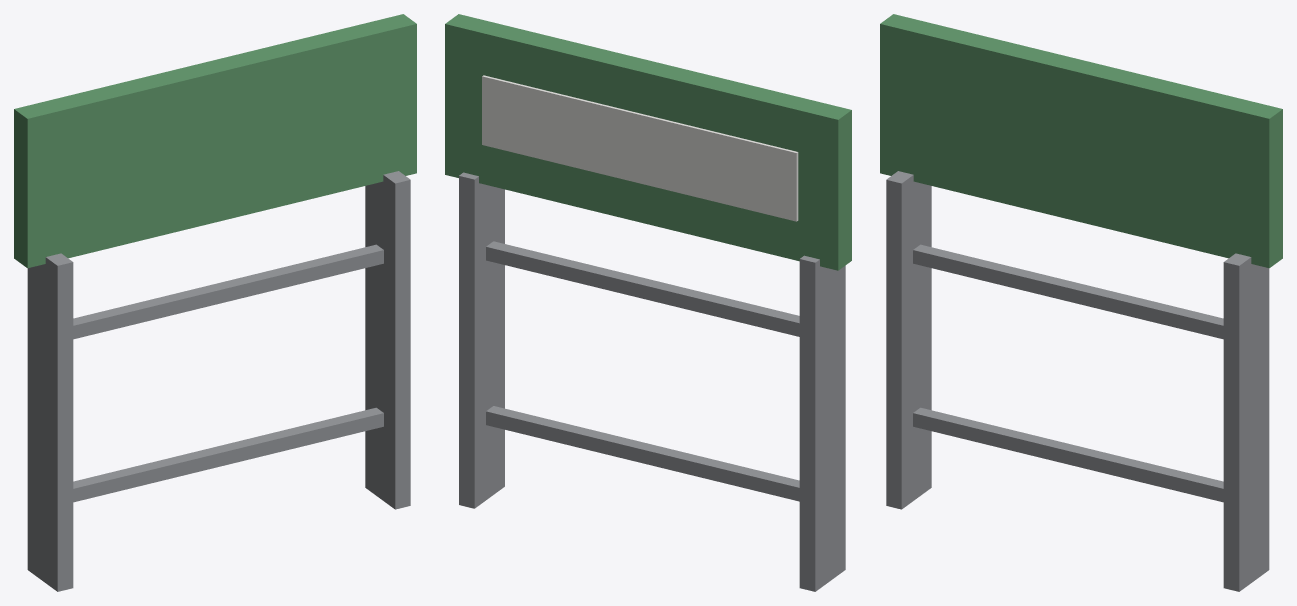
Rendered from prop_rooftop_green.glb.
3 renders of one model, left to right at view 1: azimuth 30°, elevation 25°; view 2: azimuth 150°, elevation 25°; view 3: azimuth 330°, elevation 25°, orthographic.
Parts seen in each view (by area): view 1: rooftop_green; view 2: rooftop_green; view 3: rooftop_green.
Boxes of the visible parts, <box> form: rooftop_green: <box>14,14,416,591</box>; rooftop_green: <box>445,14,851,591</box>; rooftop_green: <box>880,14,1282,591</box>.
Bounding box in the file's own units: 3 × 3.45 × 0.4.
